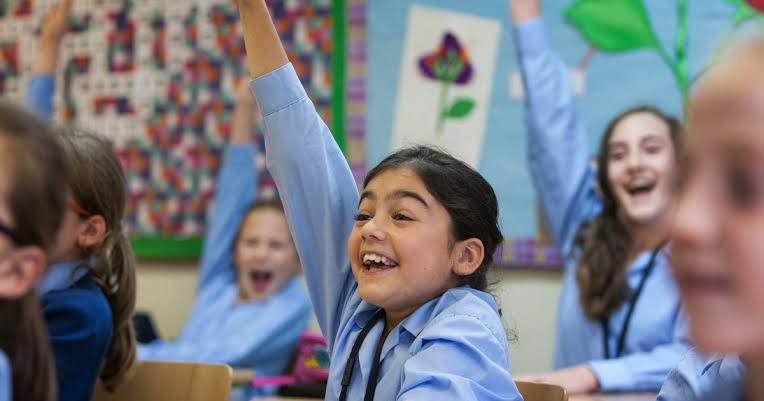student: (337, 130, 513, 305)
